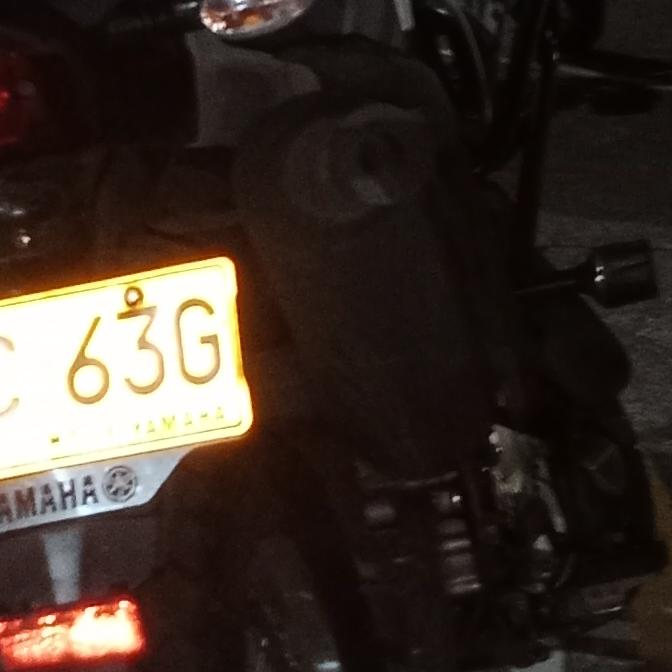plates: (0, 256, 254, 480)
